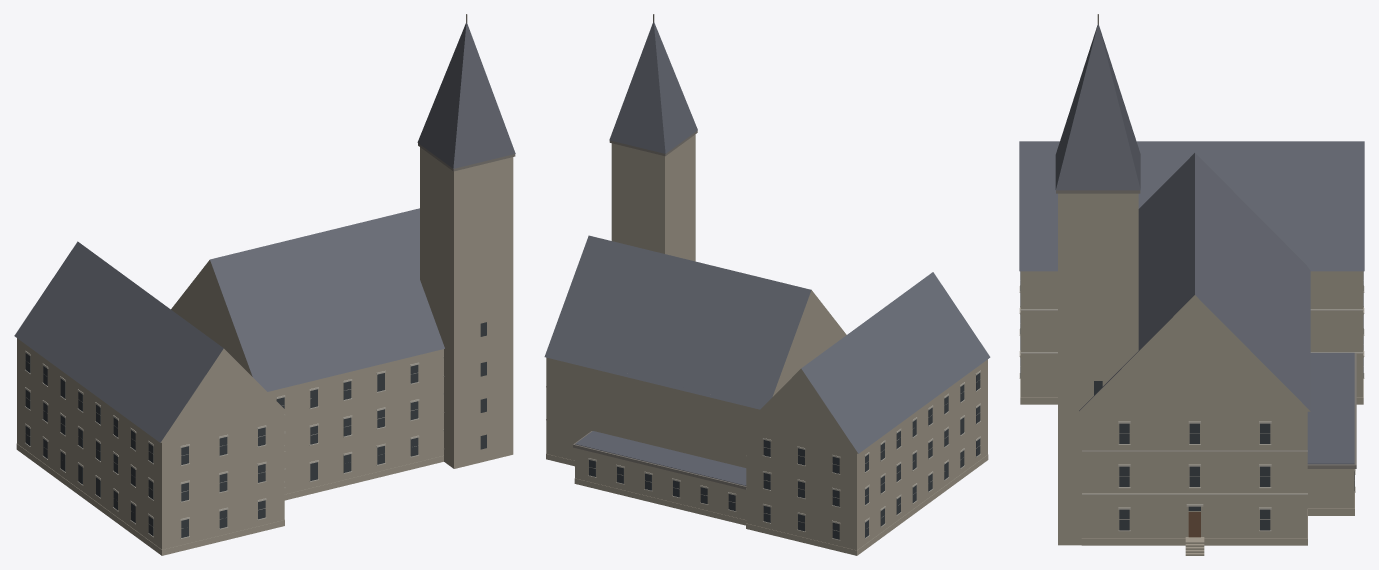
Rendered from second_presbyterian_church_1936_michigan__draft_1904.glb.
3 renders of one model, left to right at view 1: azimuth 30°, elevation 25°; view 2: azimuth 150°, elevation 25°; view 3: azimuth 270°, elevation 25°, orthographic. The views are drawn at different scales.
Visible parts, largest first — view 1: second_presbyterian_church_1936_michigan__draft_1904; view 2: second_presbyterian_church_1936_michigan__draft_1904; view 3: second_presbyterian_church_1936_michigan__draft_1904.
Part boxes in pixels (x1=…): second_presbyterian_church_1936_michigan__draft_1904: x1=14, y1=14, x2=515, y2=555; second_presbyterian_church_1936_michigan__draft_1904: x1=544, y1=14, x2=990, y2=555; second_presbyterian_church_1936_michigan__draft_1904: x1=1019, y1=14, x2=1364, y2=555.
Size of the model in its own units: 51.21 by 54.9 by 33.43.
